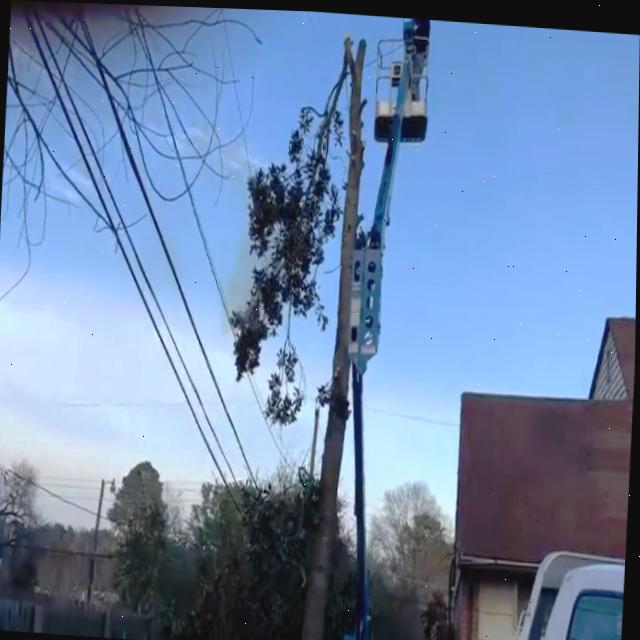obstruction: (232, 67, 345, 422)
wires: (30, 31, 230, 490), (40, 25, 237, 482), (85, 30, 239, 441), (142, 35, 236, 345), (136, 276, 182, 386), (250, 371, 286, 457)
